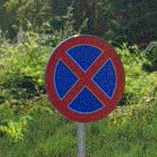oprirea_interzisa: (45, 35, 125, 122)
